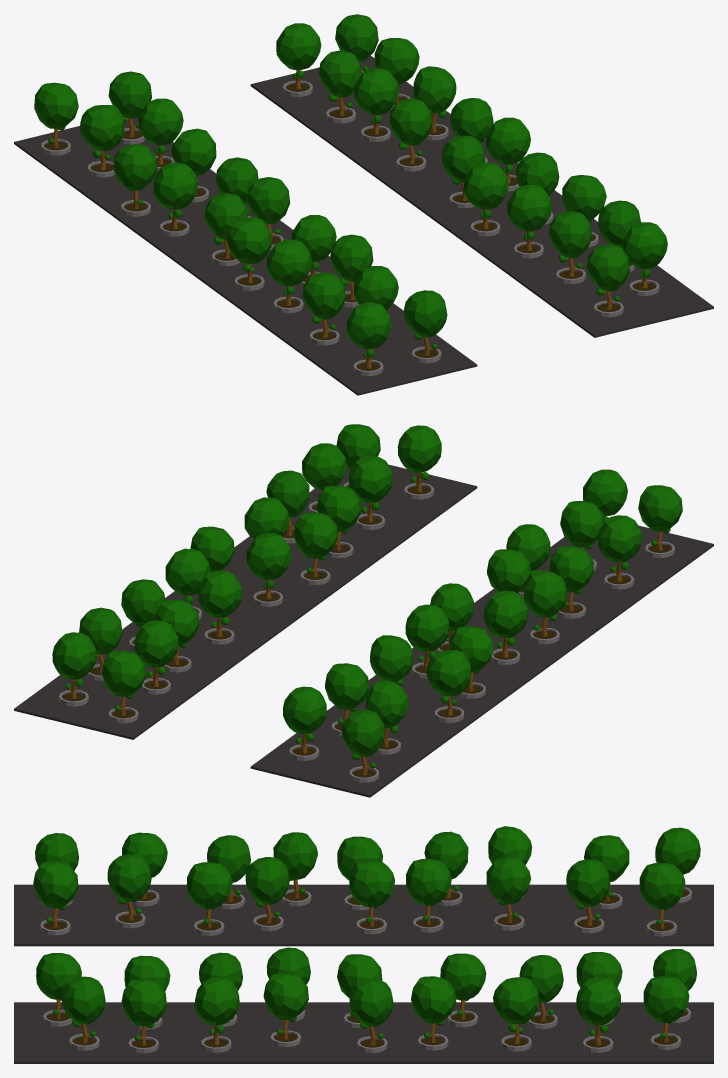
The model's file is taemplate_b_005.fbx.
3 views of the same model, one above another, from view 1: azimuth 30°, elevation 25°; view 2: azimuth 150°, elevation 25°; view 3: azimuth 270°, elevation 25° (orthographic).
Parts seen in each view (by area): view 1: roadside.010, roadside.009, tree.045, tree.049, tree.058, tree.064, tree.068, tree.056, tree.039, tree.033, tree.041, tree.035 (+26 smaller); view 2: roadside.010, roadside.009, tree.035, tree.052, tree.062, tree.067, tree.050, tree.043, tree.047, tree.066, tree.060, tree.054 (+26 smaller); view 3: roadside.009, roadside.010, tree.055, tree.065, tree.063, tree.042, tree.067, tree.034, tree.050, tree.044, tree.037, tree.038 (+26 smaller).
Boxes of the visible parts, x1=… form: roadside.010: x1=250, y1=55, x2=713, y2=337; roadside.009: x1=14, y1=117, x2=477, y2=395; tree.045: x1=153, y1=162, x2=197, y2=236; tree.049: x1=79, y1=105, x2=124, y2=177; tree.058: x1=464, y1=162, x2=508, y2=236; tree.064: x1=354, y1=68, x2=399, y2=141; tree.068: x1=276, y1=23, x2=321, y2=97; tree.056: x1=507, y1=184, x2=552, y2=258; tree.039: x1=267, y1=239, x2=311, y2=313; tree.033: x1=347, y1=302, x2=391, y2=376; tree.041: x1=226, y1=217, x2=271, y2=290; tree.035: x1=302, y1=272, x2=345, y2=345; roadside.010: x1=14, y1=464, x2=477, y2=739; roadside.009: x1=250, y1=525, x2=713, y2=797; tree.035: x1=597, y1=515, x2=641, y2=589; tree.052: x1=397, y1=425, x2=441, y2=499; tree.062: x1=198, y1=570, x2=241, y2=644; tree.067: x1=52, y1=632, x2=96, y2=706; tree.050: x1=283, y1=686, x2=326, y2=760; tree.043: x1=484, y1=591, x2=527, y2=664; tree.047: x1=426, y1=650, x2=471, y2=722; tree.066: x1=134, y1=620, x2=178, y2=694; tree.060: x1=246, y1=533, x2=291, y2=606; tree.054: x1=348, y1=455, x2=392, y2=529; roadside.009: x1=14, y1=884, x2=713, y2=946; roadside.010: x1=14, y1=1002, x2=713, y2=1063; tree.055: x1=194, y1=977, x2=239, y2=1052; tree.065: x1=576, y1=977, x2=620, y2=1052; tree.063: x1=493, y1=977, x2=538, y2=1051; tree.042: x1=349, y1=860, x2=394, y2=934; tree.067: x1=643, y1=976, x2=689, y2=1049; tree.034: x1=107, y1=854, x2=151, y2=928; tree.050: x1=639, y1=863, x2=685, y2=936; tree.044: x1=406, y1=859, x2=451, y2=932; tree.037: x1=186, y1=862, x2=232, y2=935; tree.038: x1=61, y1=976, x2=105, y2=1050.
Size of the model in its own units: 891 by 158 by 1489.
